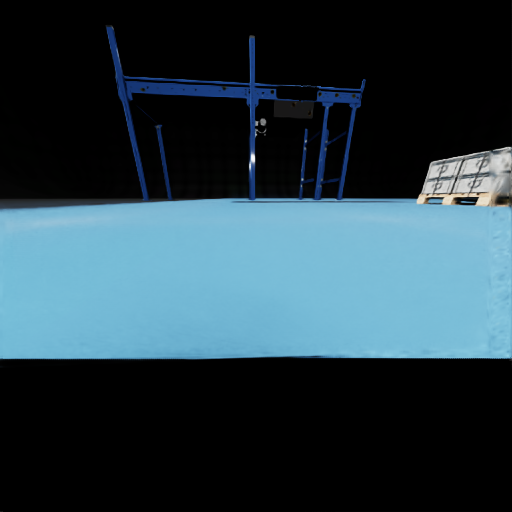transportation_area: (452, 171, 511, 193), (468, 151, 487, 196), (434, 159, 445, 190), (262, 92, 263, 93)
